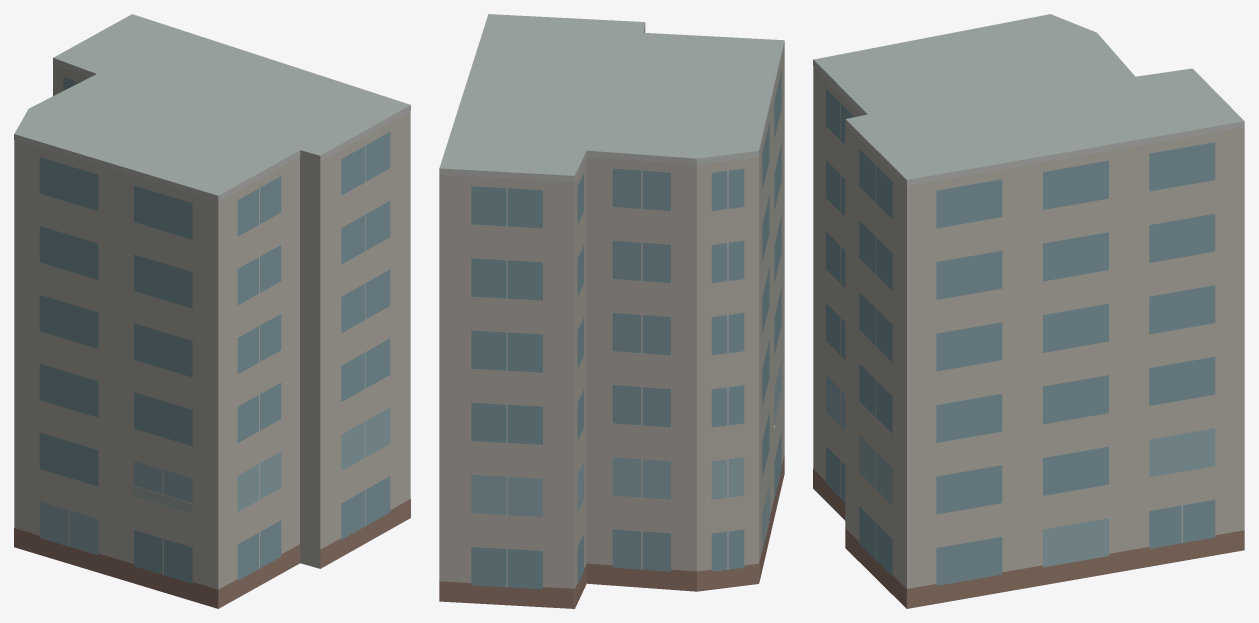
File: survey-upis-32941830.glb
3 renders of one model, left to right at view 1: azimuth 30°, elevation 25°; view 2: azimuth 150°, elevation 25°; view 3: azimuth 270°, elevation 25°, orthographic. The views are drawn at different scales.
Visible parts, largest first — view 1: survey-upis-32941830.tmp; view 2: survey-upis-32941830.tmp; view 3: survey-upis-32941830.tmp.
Part boxes in pixels (<box>): survey-upis-32941830.tmp: <box>14,14,410,608</box>; survey-upis-32941830.tmp: <box>439,14,784,608</box>; survey-upis-32941830.tmp: <box>813,14,1244,608</box>.
Size of the model in its own units: 13.94 by 16.8 by 15.32.
